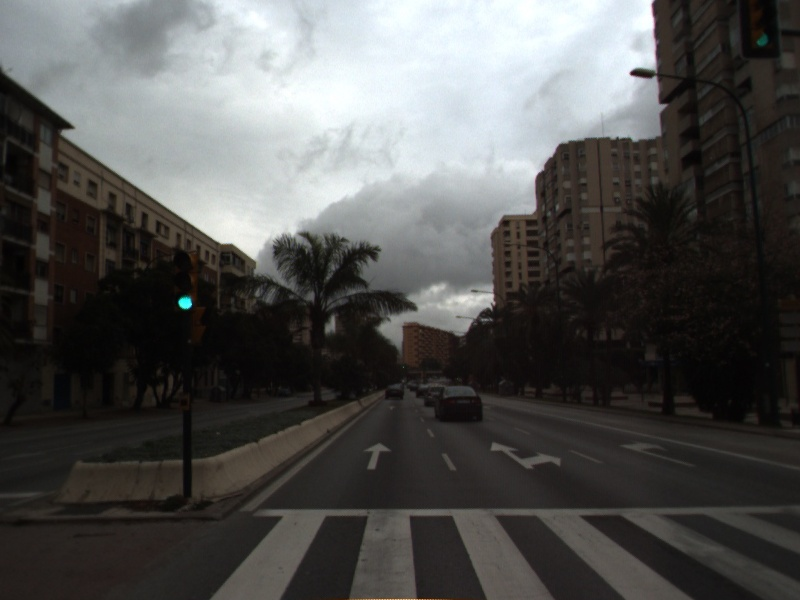RIGHT: (617, 438, 698, 469)
STRAIGHT: (361, 440, 394, 471)
STRAIGHT_RIGHT: (488, 439, 563, 472)
